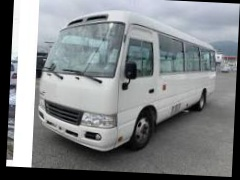bus: (37, 6, 220, 159)
